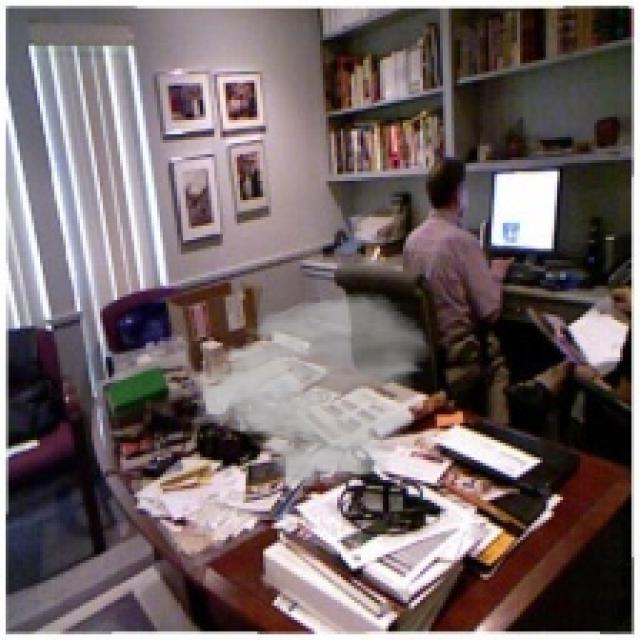smoke: (186, 292, 434, 492)
